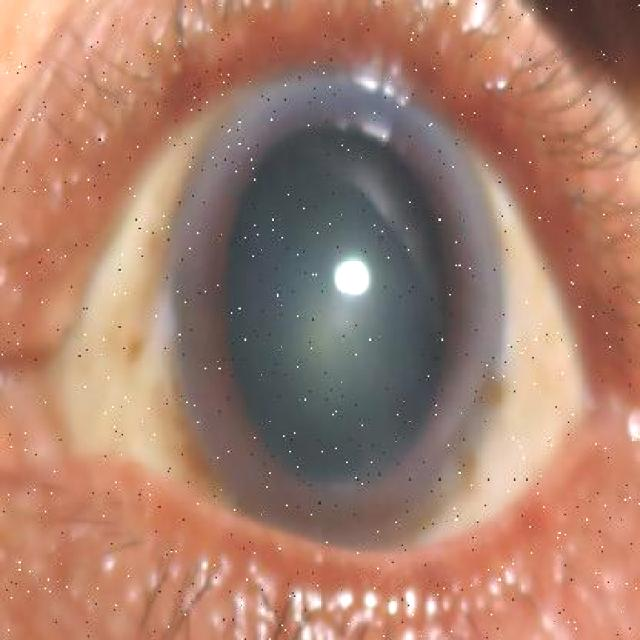Cataract: (152, 65, 511, 546)
